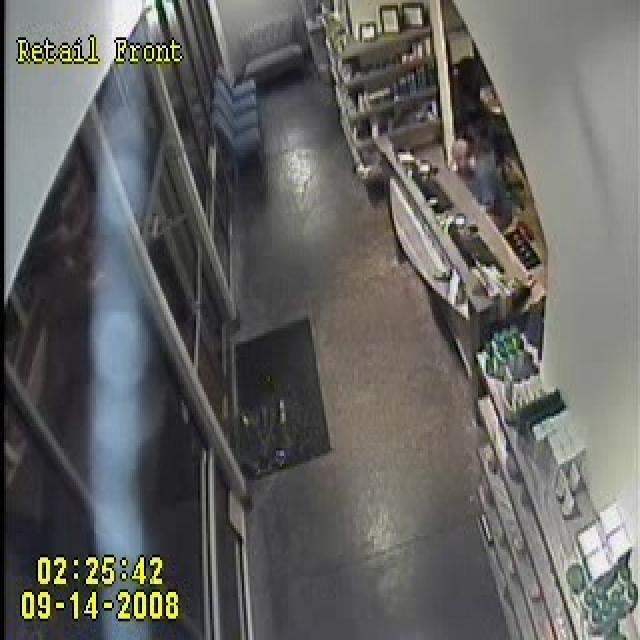thief: (456, 146, 515, 252)
